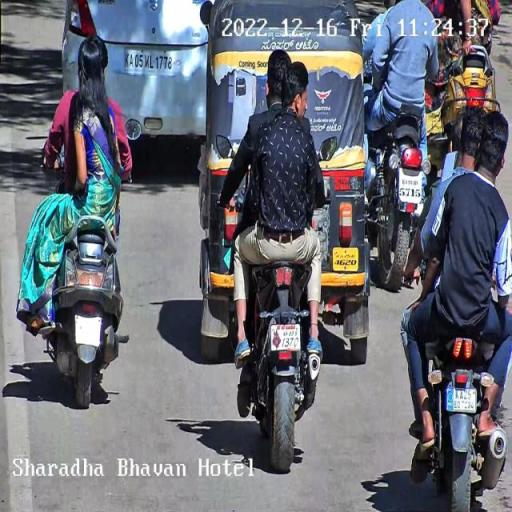tripple riding: (398, 100, 512, 335)
